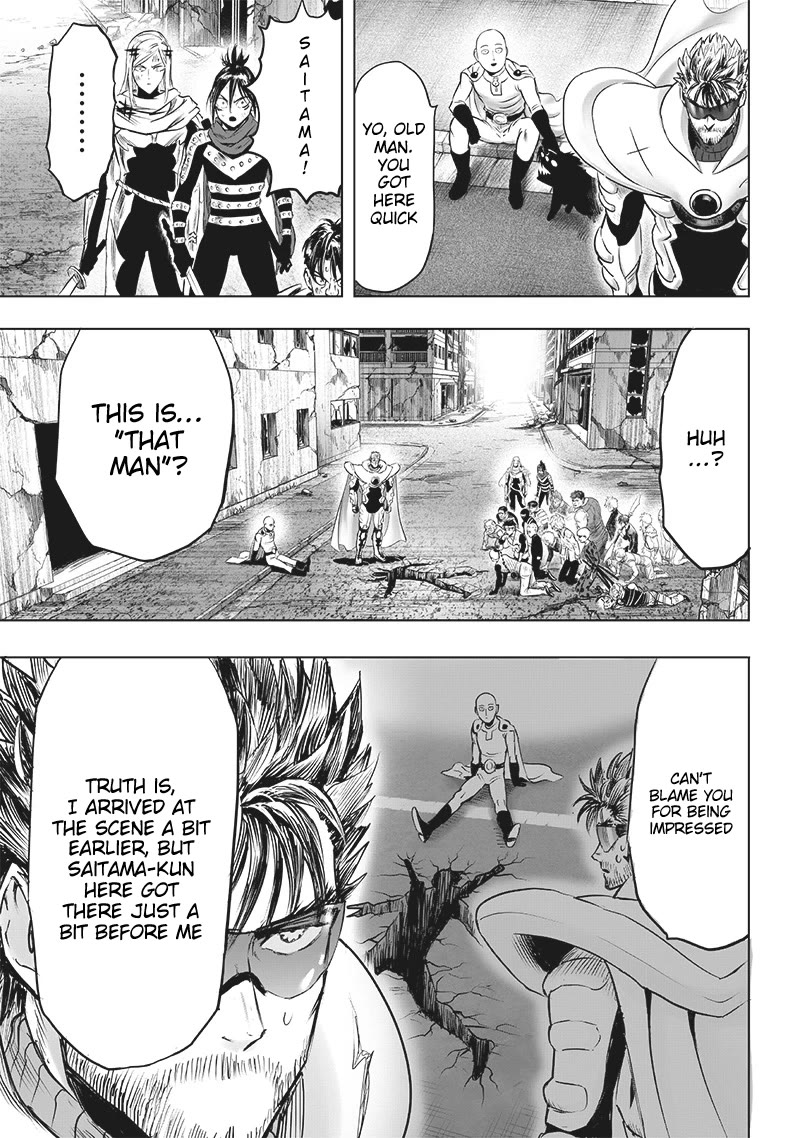bubble: (29, 657, 239, 1070), (53, 328, 234, 563), (625, 657, 749, 950), (660, 329, 749, 569), (243, 2, 345, 203), (355, 59, 438, 291), (49, 22, 116, 204)
